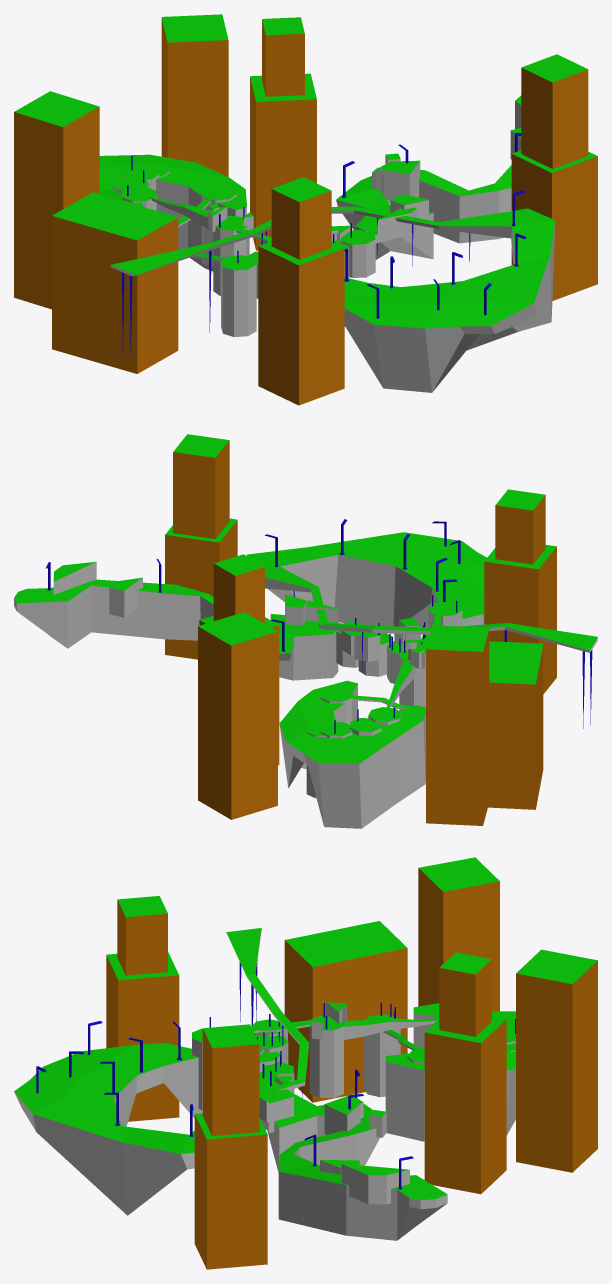
3 renders of one model, top to bottom at view 1: azimuth 30°, elevation 25°; view 2: azimuth 150°, elevation 25°; view 3: azimuth 270°, elevation 25°, orthographic. The views are drawn at different scales.
Parts seen in each view (by area): view 1: SP1mesh; view 2: SP1mesh; view 3: SP1mesh.
Part boxes in pixels (box(x1,y1,x2,y2)): SP1mesh: box(14, 14, 597, 405); SP1mesh: box(14, 434, 597, 828); SP1mesh: box(14, 857, 597, 1269).
Size of the model in its own units: 59621 by 55863 by 24599.
